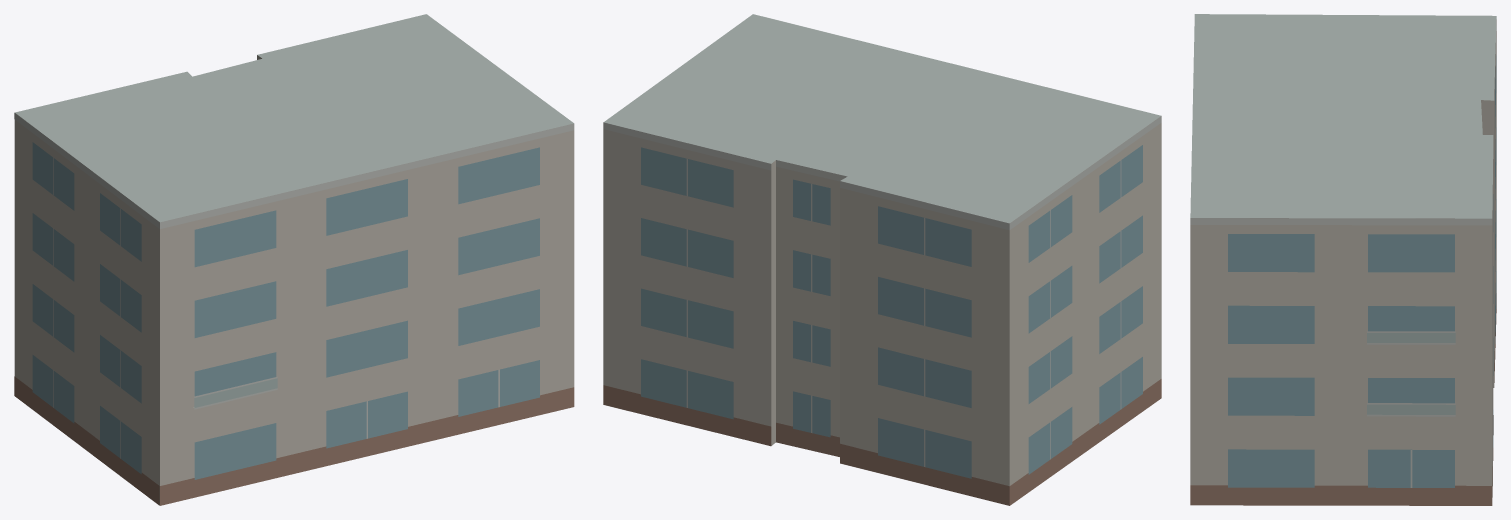
The model's file is survey-upis-32805368.glb.
3 renders of one model, left to right at view 1: azimuth 30°, elevation 25°; view 2: azimuth 150°, elevation 25°; view 3: azimuth 270°, elevation 25°, orthographic.
Visible parts, largest first — view 1: survey-upis-32805368.tmp; view 2: survey-upis-32805368.tmp; view 3: survey-upis-32805368.tmp.
Part boxes in pixels (left/top/right/bottom): survey-upis-32805368.tmp: left=14, top=14, right=574, bottom=505; survey-upis-32805368.tmp: left=603, top=14, right=1161, bottom=505; survey-upis-32805368.tmp: left=1190, top=14, right=1496, bottom=505.
Size of the model in its own units: 15.53 by 10.15 by 9.81.
